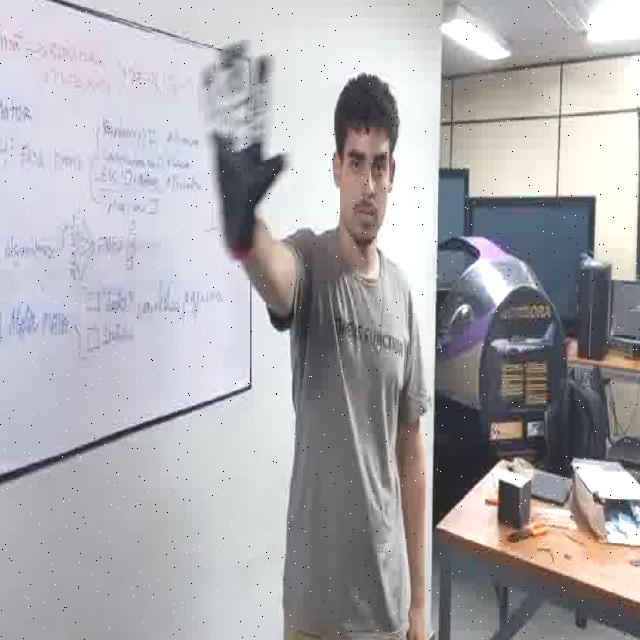Gloves: (204, 37, 284, 256)
